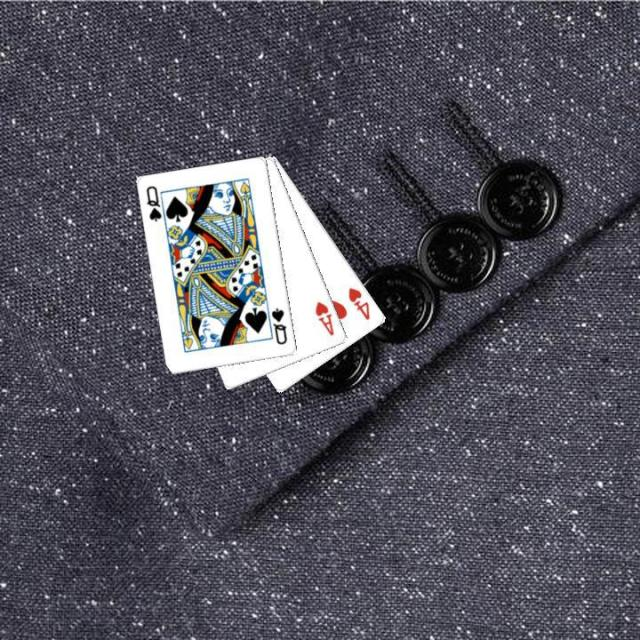4H: (345, 284, 372, 322)
AH: (311, 298, 336, 338)
QS: (267, 304, 289, 347), (142, 182, 164, 223)
